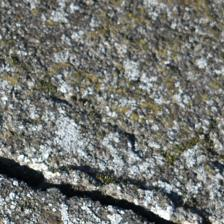Crack: (3, 153, 173, 222)
